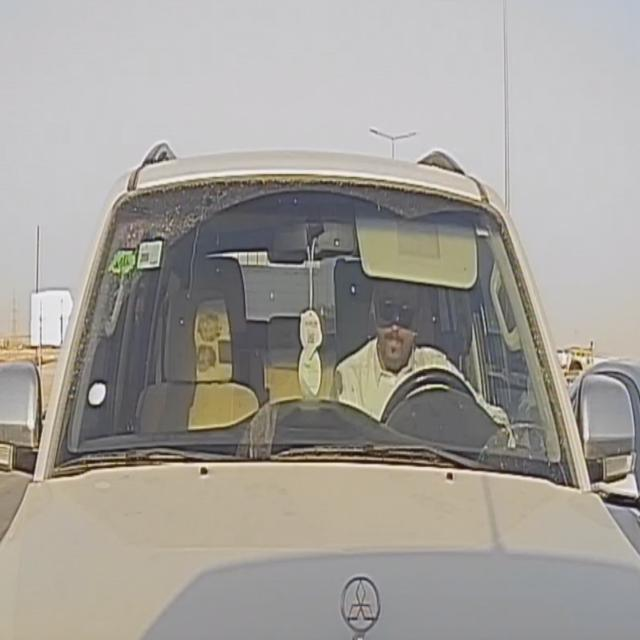person_without_seatbelt: (334, 260, 474, 458)
